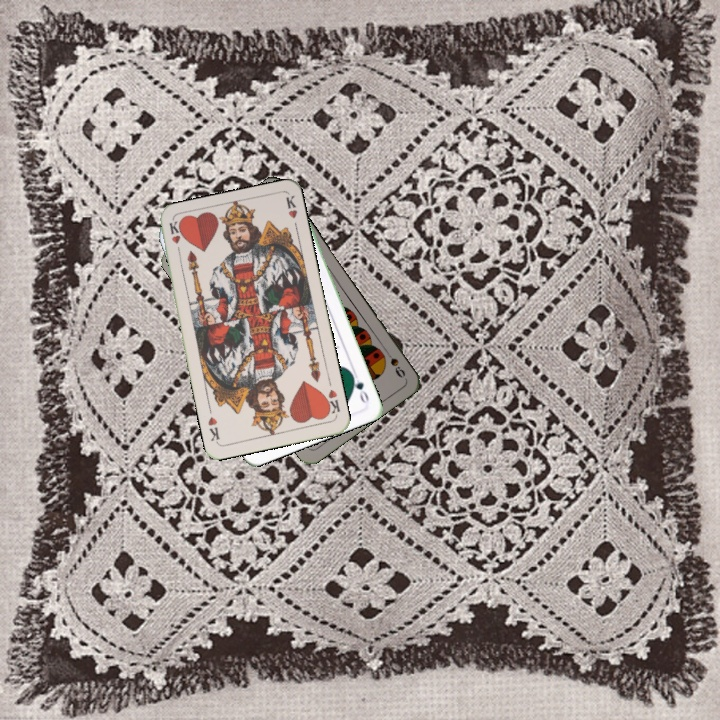GO: (347, 367, 371, 406)
HK: (165, 218, 184, 259), (320, 385, 343, 418)
S9: (385, 352, 408, 381)
